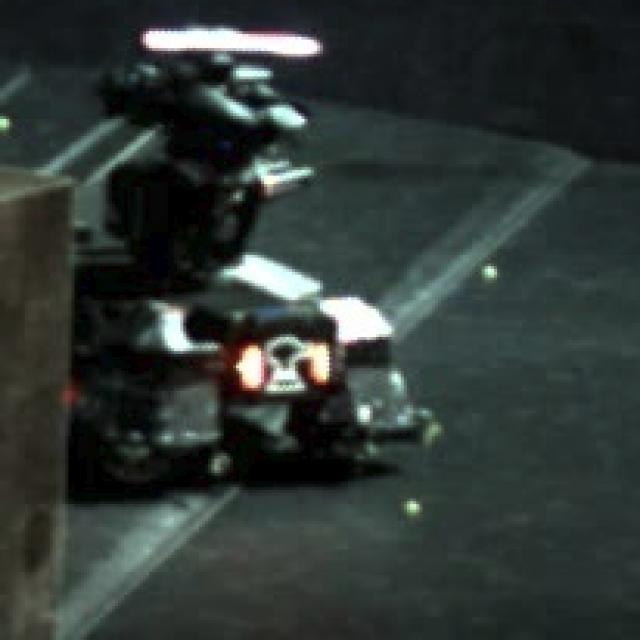Rs: (233, 334, 332, 391)
